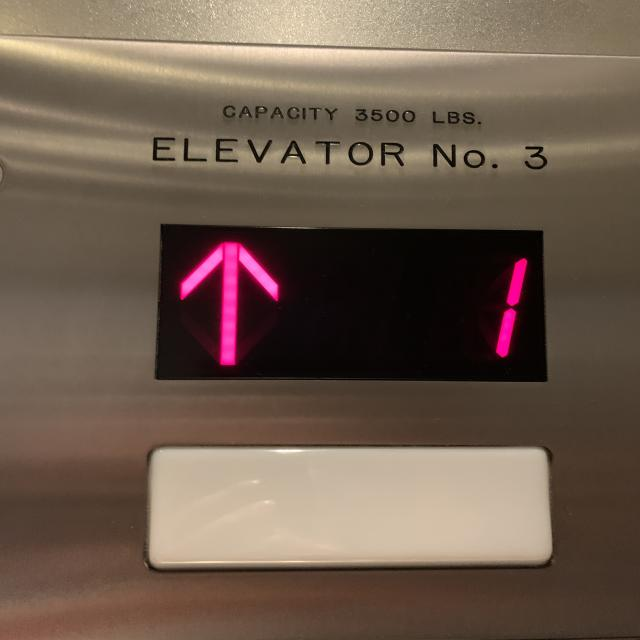box: (123, 207, 566, 397)
